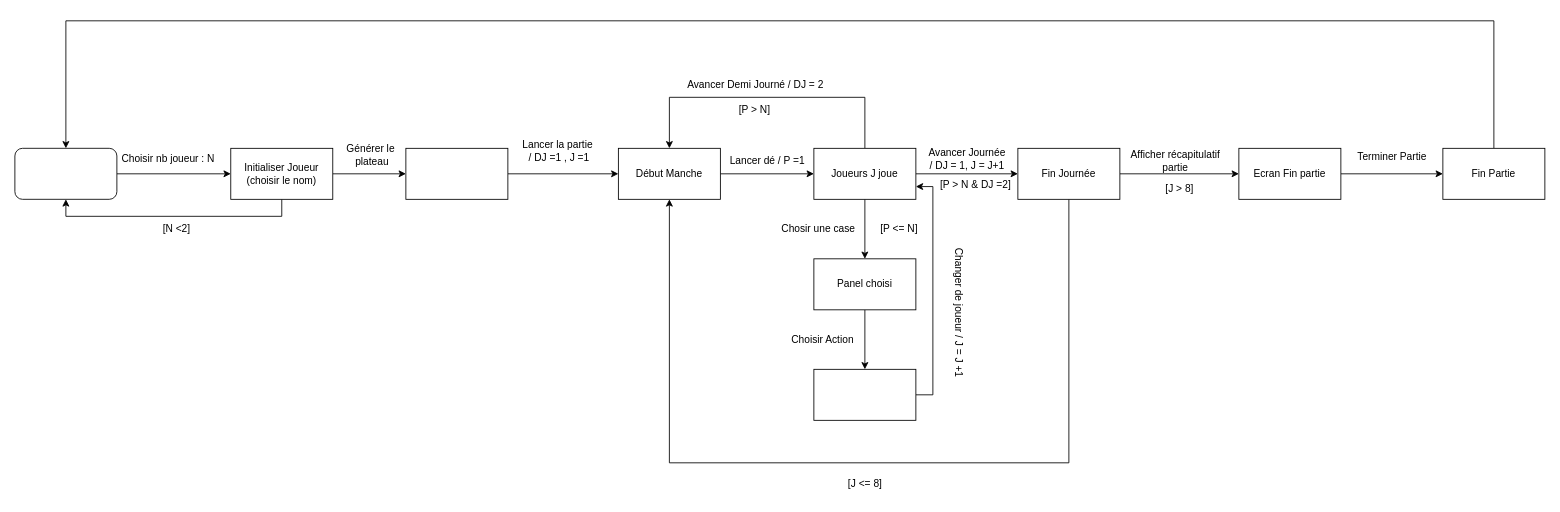
The diagram is 1560 pixels wide and 512 high, and some of its shapes have lost their labels. Each missing label, with the centre of its shape:
Conséquence Action: (x=864, y=394)
Début: (x=65, y=173)
Début partie: (x=456, y=173)
